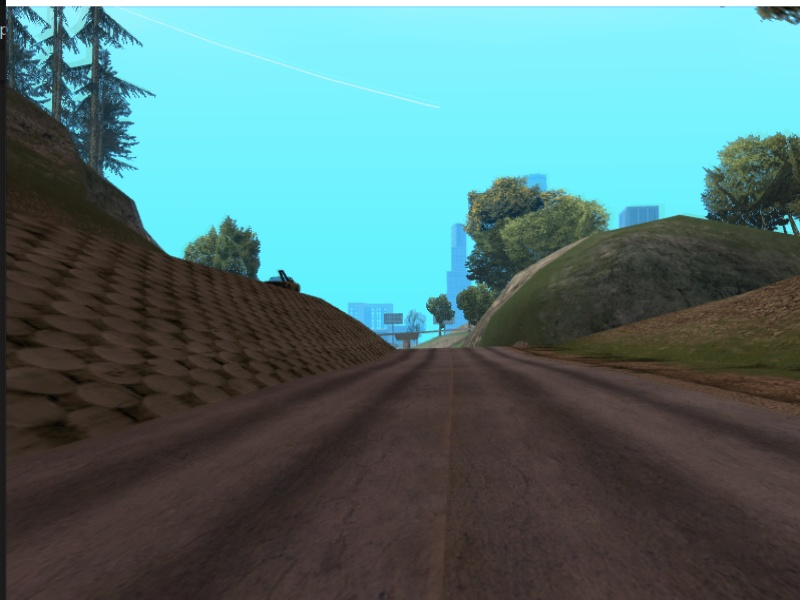vehicle: (270, 274, 300, 291)
